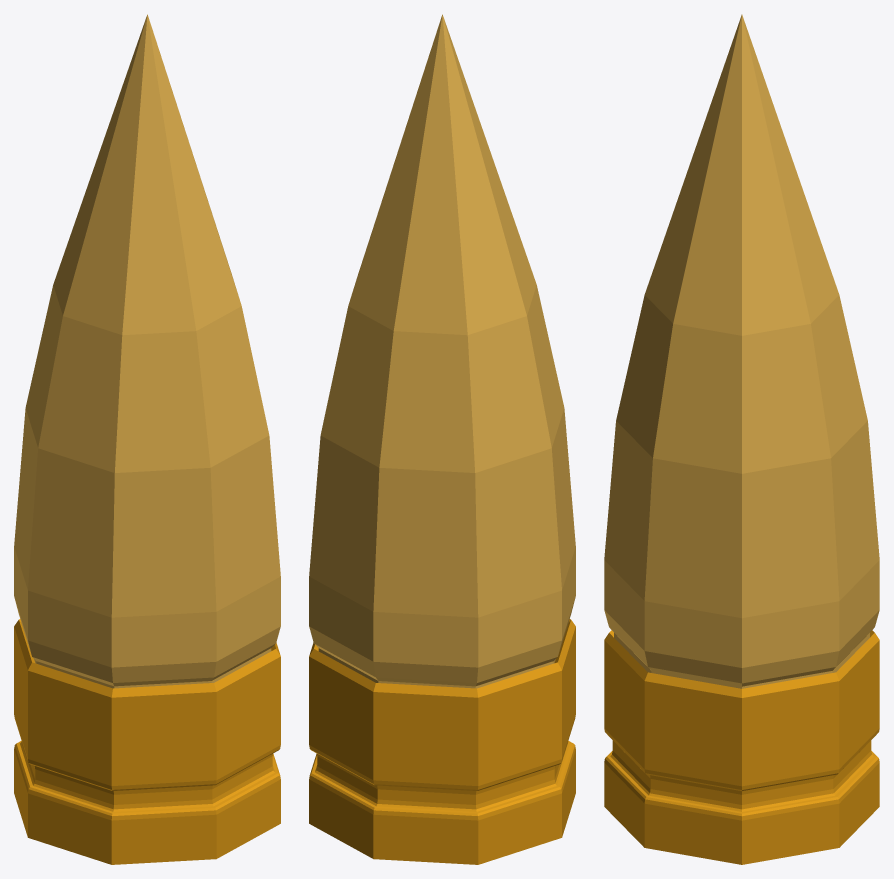
Rendered from kadoom,nlrmf.glb.
3 renders of one model, left to right at view 1: azimuth 30°, elevation 25°; view 2: azimuth 150°, elevation 25°; view 3: azimuth 270°, elevation 25°, orthographic.
Parts seen in each view (by area): view 1: Sphere; view 2: Sphere; view 3: Sphere.
Part boxes in pixels (bbox=[...]): Sphere: bbox=[14, 14, 280, 864]; Sphere: bbox=[309, 14, 575, 864]; Sphere: bbox=[604, 14, 879, 864].
Size of the model in its own units: 1.73 by 5.52 by 1.73.
